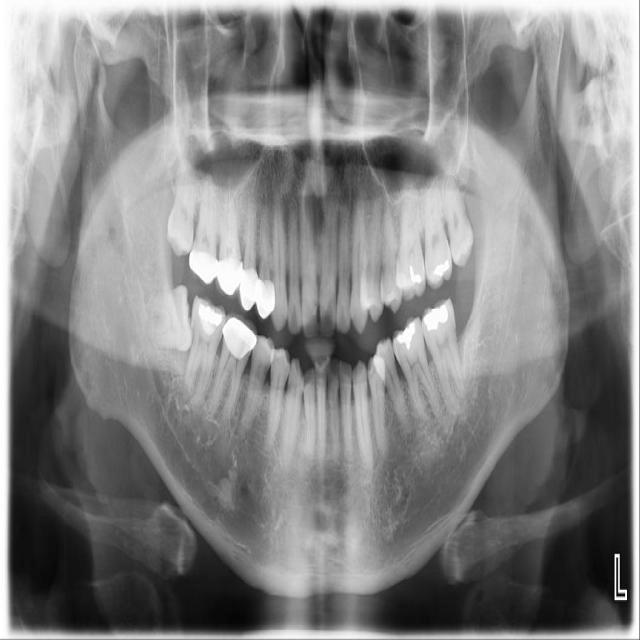Crown: (189, 250, 243, 299), (222, 311, 257, 367), (254, 274, 276, 321), (238, 266, 259, 314)
Filling: (197, 299, 223, 334), (421, 304, 452, 333), (391, 319, 418, 349), (398, 263, 424, 291), (425, 260, 450, 286)
impacted tooth: (136, 286, 192, 348)
